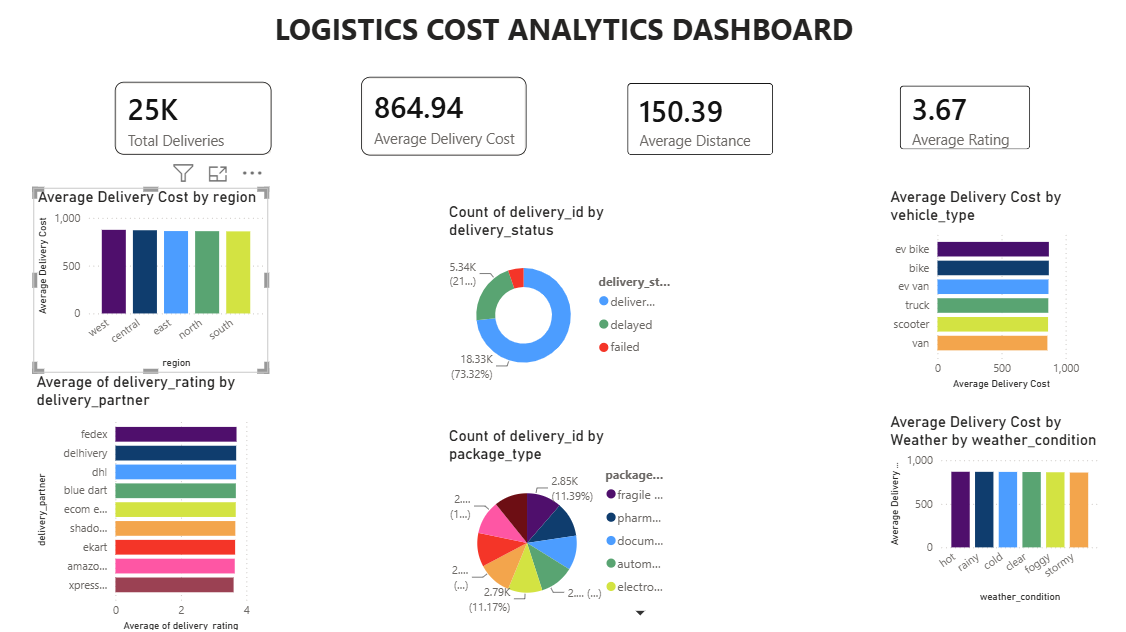

The page's visual inventory and layout, read from the dashboard file:
{"tool":"powerbi","page":{"name":"Page 1","canvas":[1280,720],"ordinal":0},"visuals":[{"type":"cardVisual","fields":{"Data":["logistics_dataset.Total Deliveries"]},"box":[128.4,95.4,206.7,114.9],"z":0},{"type":"cardVisual","fields":{"Data":["logistics_dataset.Average Delivery Cost"]},"box":[399.3,90.6,215.4,120.8],"z":1000},{"type":"cardVisual","fields":{"Data":["logistics_dataset.Average Distance"]},"box":[691.6,97.4,194.9,113.9],"z":2000},{"type":"cardVisual","fields":{"Data":["logistics_dataset.Average Rating"]},"box":[990.7,100.2,177,104.3],"z":3000},{"type":"textbox","box":[287.4,26.9,704.4,57.5],"z":4000},{"type":"clusteredColumnChart","fields":{"Category":["logistics_dataset.region"],"Y":["logistics_dataset.Average Delivery Cost"]},"box":[56.3,228.7,258,203],"z":4001},{"type":"clusteredBarChart","fields":{"Category":["logistics_dataset.vehicle_type"],"Y":["logistics_dataset.Average Delivery Cost"]},"box":[991.7,228.7,217.7,226.2],"z":4002},{"type":"barChart","fields":{"Category":["logistics_dataset.delivery_partner"],"Y":["Avg(logistics_dataset.delivery_rating)"]},"box":[55,431.7,244.6,288.6],"z":4003},{"type":"columnChart","fields":{"Category":["logistics_dataset.weather_condition"],"Y":["logistics_dataset.Average Delivery Cost"]},"box":[991.7,475.7,238.5,212.8],"z":4004},{"type":"pieChart","fields":{"Category":["logistics_dataset.package_type"],"Y":["CountNonNull(logistics_dataset.delivery_id)"]},"box":[507.5,491.6,255.6,217.7],"z":4005},{"type":"donutChart","fields":{"Category":["logistics_dataset.delivery_status"],"Y":["CountNonNull(logistics_dataset.delivery_id)"]},"box":[507.5,245.8,258,209.1],"z":4006}]}

Visuals, with their boxes in screenshot pixels (x1, y1, x2, y2), scaled from the page's 1280x720 canvas onto the 1126x632 screenshot:
cardVisual - logistics_dataset.Total Deliveries: x1=113, y1=84, x2=295, y2=185
cardVisual - logistics_dataset.Average Delivery Cost: x1=351, y1=80, x2=541, y2=186
cardVisual - logistics_dataset.Average Distance: x1=608, y1=85, x2=780, y2=185
cardVisual - logistics_dataset.Average Rating: x1=872, y1=88, x2=1027, y2=180
textbox: x1=253, y1=24, x2=872, y2=74
clusteredColumnChart - logistics_dataset.region x logistics_dataset.Average Delivery Cost: x1=50, y1=201, x2=276, y2=379
clusteredBarChart - logistics_dataset.vehicle_type x logistics_dataset.Average Delivery Cost: x1=872, y1=201, x2=1064, y2=399
barChart - logistics_dataset.delivery_partner x Avg(logistics_dataset.delivery_rating): x1=48, y1=379, x2=264, y2=631
columnChart - logistics_dataset.weather_condition x logistics_dataset.Average Delivery Cost: x1=872, y1=418, x2=1082, y2=604
pieChart - logistics_dataset.package_type x CountNonNull(logistics_dataset.delivery_id): x1=446, y1=432, x2=671, y2=623
donutChart - logistics_dataset.delivery_status x CountNonNull(logistics_dataset.delivery_id): x1=446, y1=216, x2=673, y2=399
